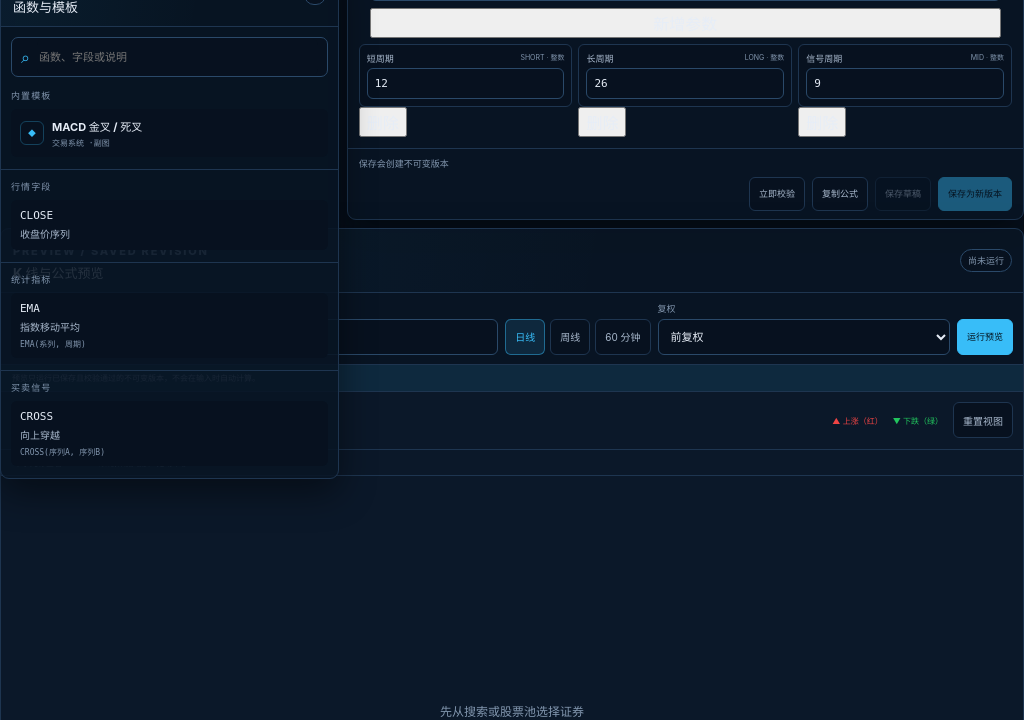
Test: explains a missing local bar cache without reporting the healthy API as down
The image size is (1024, 720).
(page scrolled)
Click the button "运行预览" at [985, 337], box [957,319,1013,355]
(page scrolled)
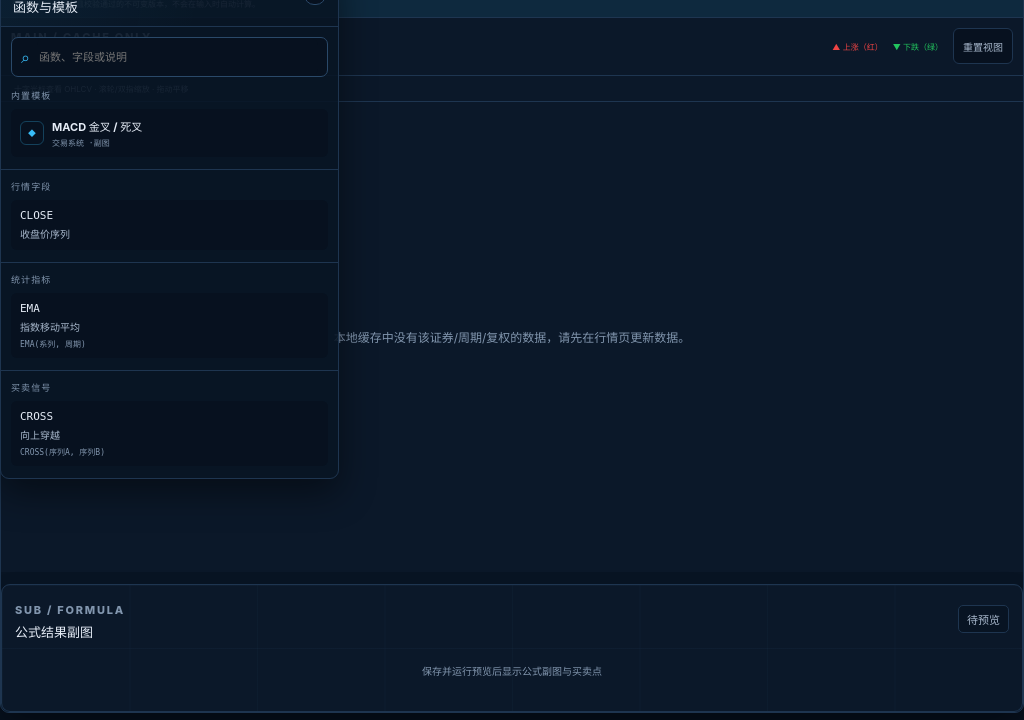
Expected: the message shows "本地缓存中没有该证券/周期/复权的数据，请先在行情页更新数据", [334,330,690,345]
